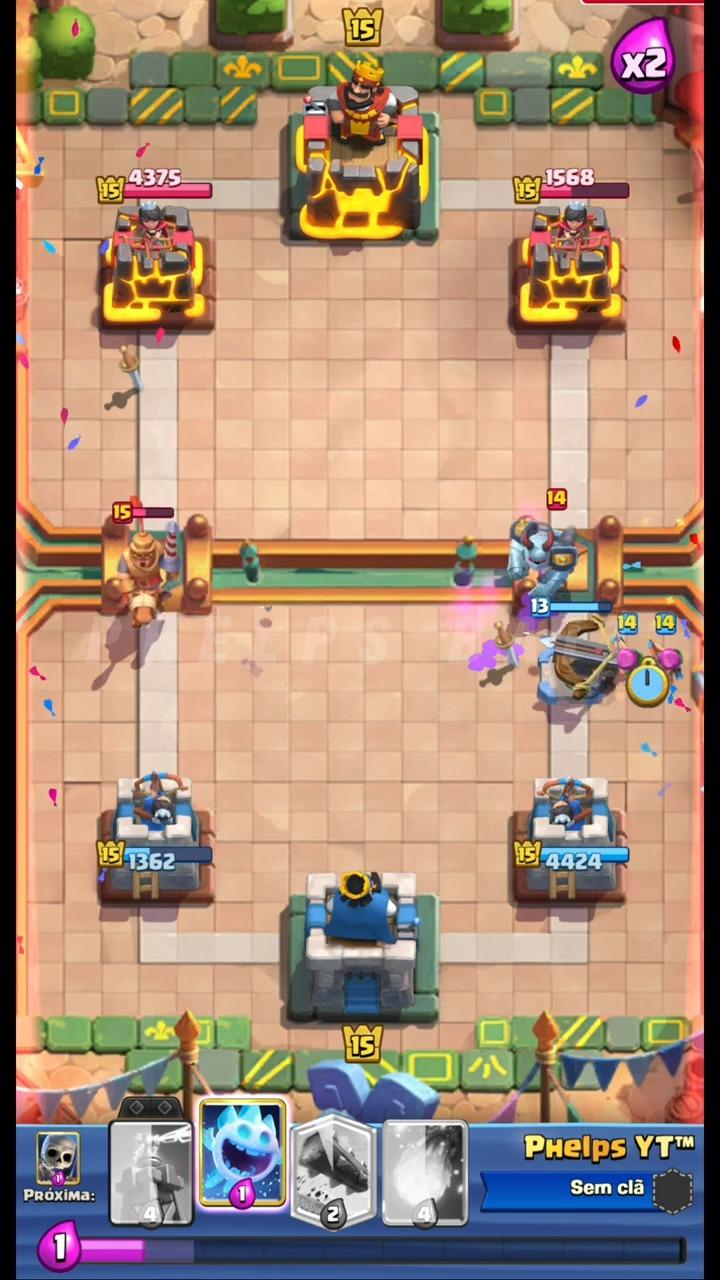archer: (617, 648, 641, 673), (657, 649, 681, 671)
mega minion: (507, 517, 579, 598)
prince: (119, 524, 178, 628)
x-bow: (538, 604, 619, 709)
